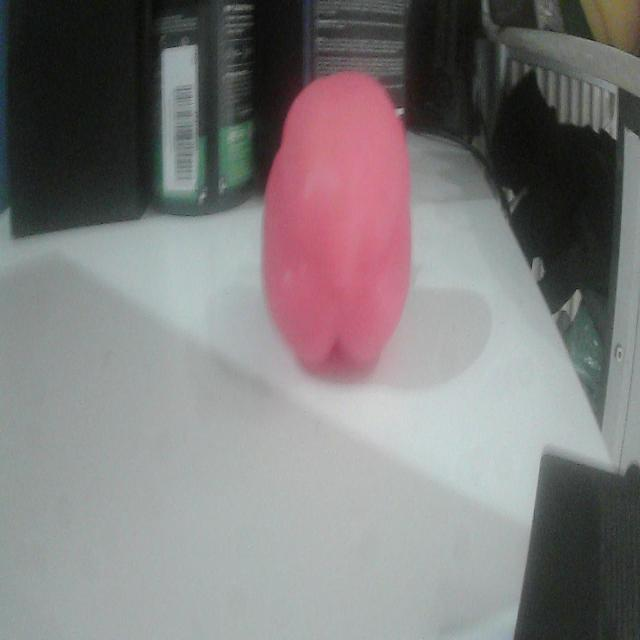Bell Pepper: (262, 72, 410, 381)
